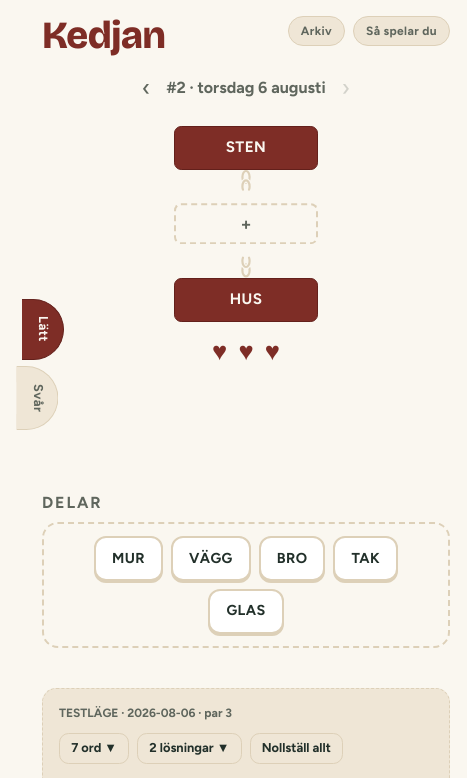
Scenario: building the chain › lands a part on the open link when the end of the chain is forged
Click the button with aria-label "vägg." at coordinates (211, 558), box x1=171 y1=536 x2=251 y2=581
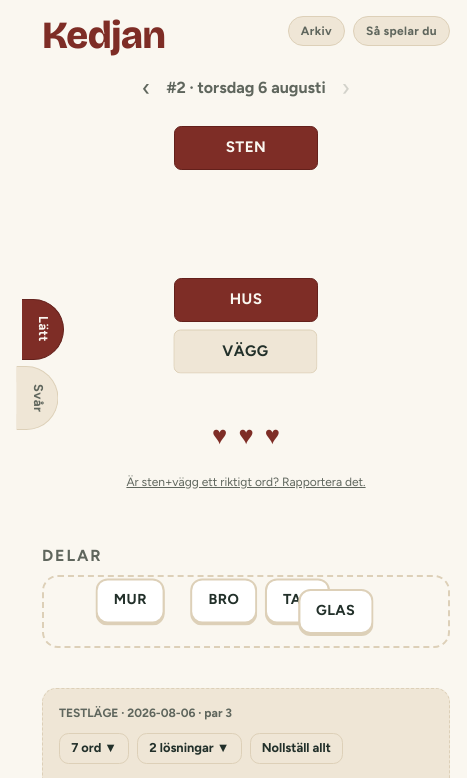
Click the button "tak" at coordinates (292, 604), box x1=260 y1=581 x2=324 y2=626
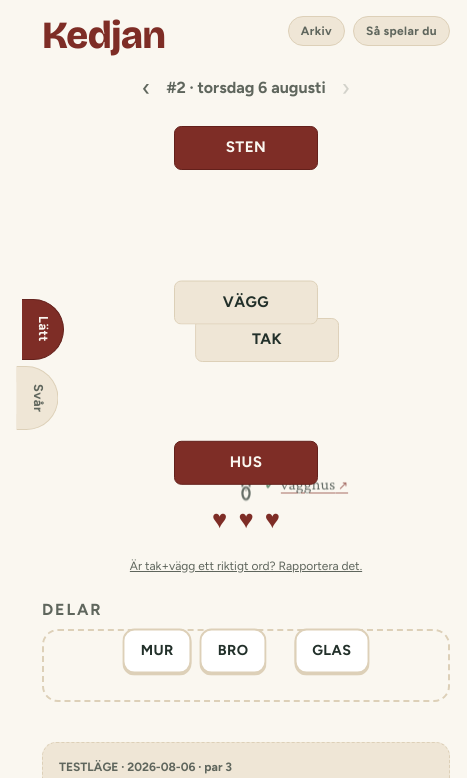
expect the button with aria-label "länk 2, vägg." is shown: met, box x1=174 y1=278 x2=318 y2=322
expect the button with aria-label "länk 1, tak." is shown: met, box x1=184 y1=263 x2=328 y2=307
